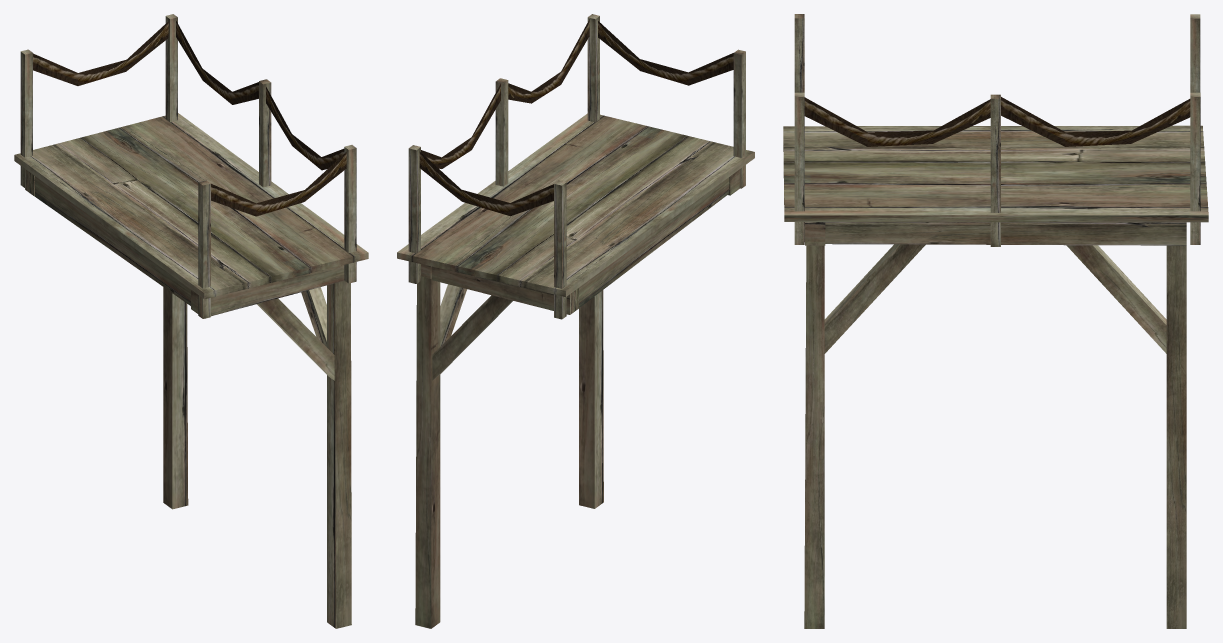
File: pier_scaffold_end.fbx
The picture shows the model from 3 angles, left to right: view 1: azimuth 30°, elevation 25°; view 2: azimuth 150°, elevation 25°; view 3: azimuth 270°, elevation 25°; orthographic projection. The views are drawn at different scales.
Visible parts, largest first — view 1: Platform1, corner_post, railing1, Frame1, polySurface1, polySurface19, polySurface18, polySurface20, polySurface21; view 2: Platform1, corner_post, railing1, Frame1, polySurface1.001, polySurface19, polySurface18, polySurface21, polySurface20; view 3: Platform1, corner_post, Frame1, railing1, polySurface20, polySurface1, polySurface21, polySurface1.001.
Boxes of the visible parts, left/top/right/bottom form: Platform1: left=14, top=113, right=368, bottom=299; corner_post: left=163, top=280, right=351, bottom=628; railing1: left=20, top=14, right=356, bottom=318; Frame1: left=25, top=169, right=344, bottom=316; polySurface1: left=257, top=287, right=334, bottom=380; polySurface19: left=211, top=152, right=346, bottom=216; polySurface18: left=33, top=21, right=168, bottom=85; polySurface20: left=176, top=20, right=258, bottom=104; polySurface21: left=266, top=87, right=344, bottom=170; Platform1: left=397, top=113, right=754, bottom=296; corner_post: left=415, top=276, right=603, bottom=628; railing1: left=408, top=14, right=745, bottom=319; Frame1: left=421, top=169, right=739, bottom=314; polySurface1.001: left=432, top=284, right=512, bottom=380; polySurface19: left=598, top=21, right=733, bottom=85; polySurface18: left=419, top=151, right=553, bottom=216; polySurface21: left=508, top=19, right=589, bottom=103; polySurface20: left=421, top=83, right=500, bottom=168; Platform1: left=783, top=125, right=1208, bottom=222; corner_post: left=804, top=245, right=1186, bottom=628; Frame1: left=804, top=222, right=1186, bottom=245; railing1: left=794, top=14, right=1200, bottom=246; polySurface20: left=1001, top=97, right=1190, bottom=146; polySurface1: left=824, top=244, right=925, bottom=353; polySurface21: left=804, top=97, right=990, bottom=146; polySurface1.001: left=1066, top=245, right=1166, bottom=353.
Bounding box in the file's own units: 753 × 2083 × 1509.
2 materials, 2 textured.
